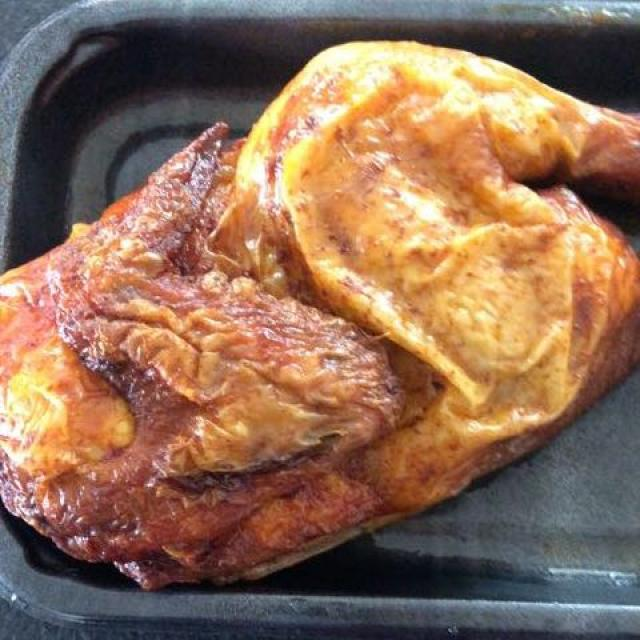chicken: (23, 50, 637, 579)
